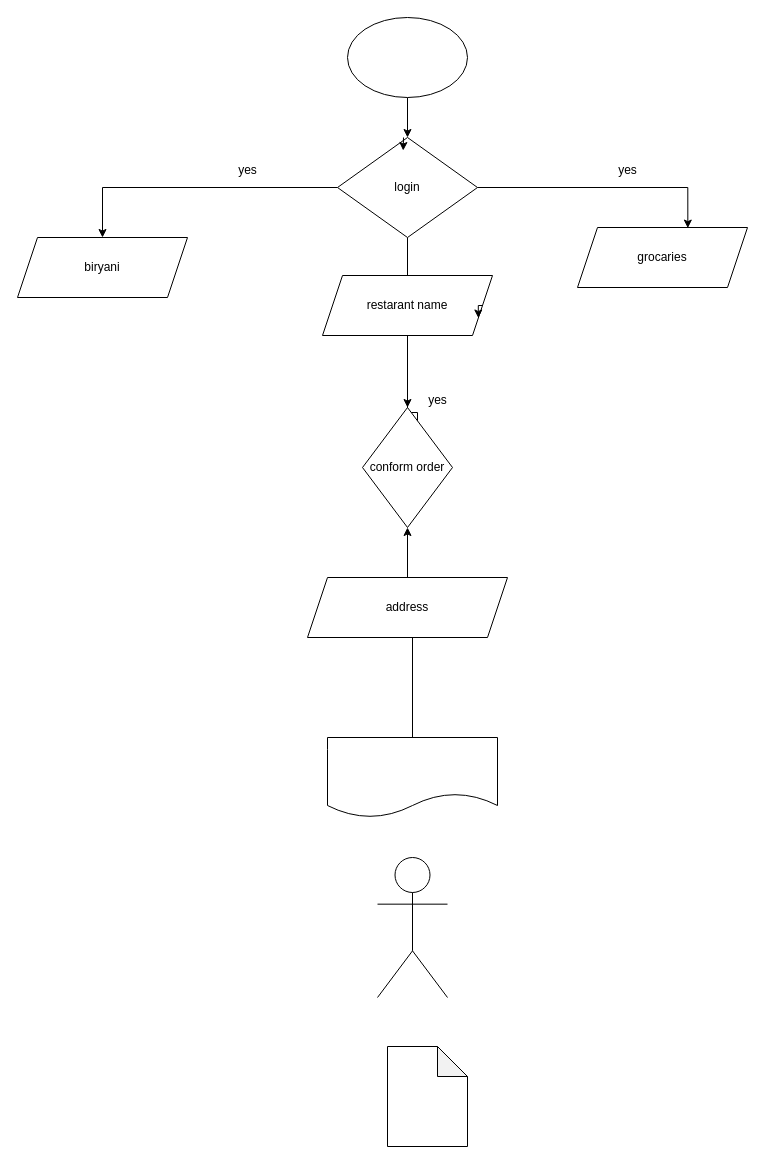
Image size: 765x1164. Some labels were removed from this diagram. Each missing label, with the box of its shape:
Actor: (376, 856, 448, 998)
bill: (326, 736, 498, 818)
start: (346, 16, 468, 98)
